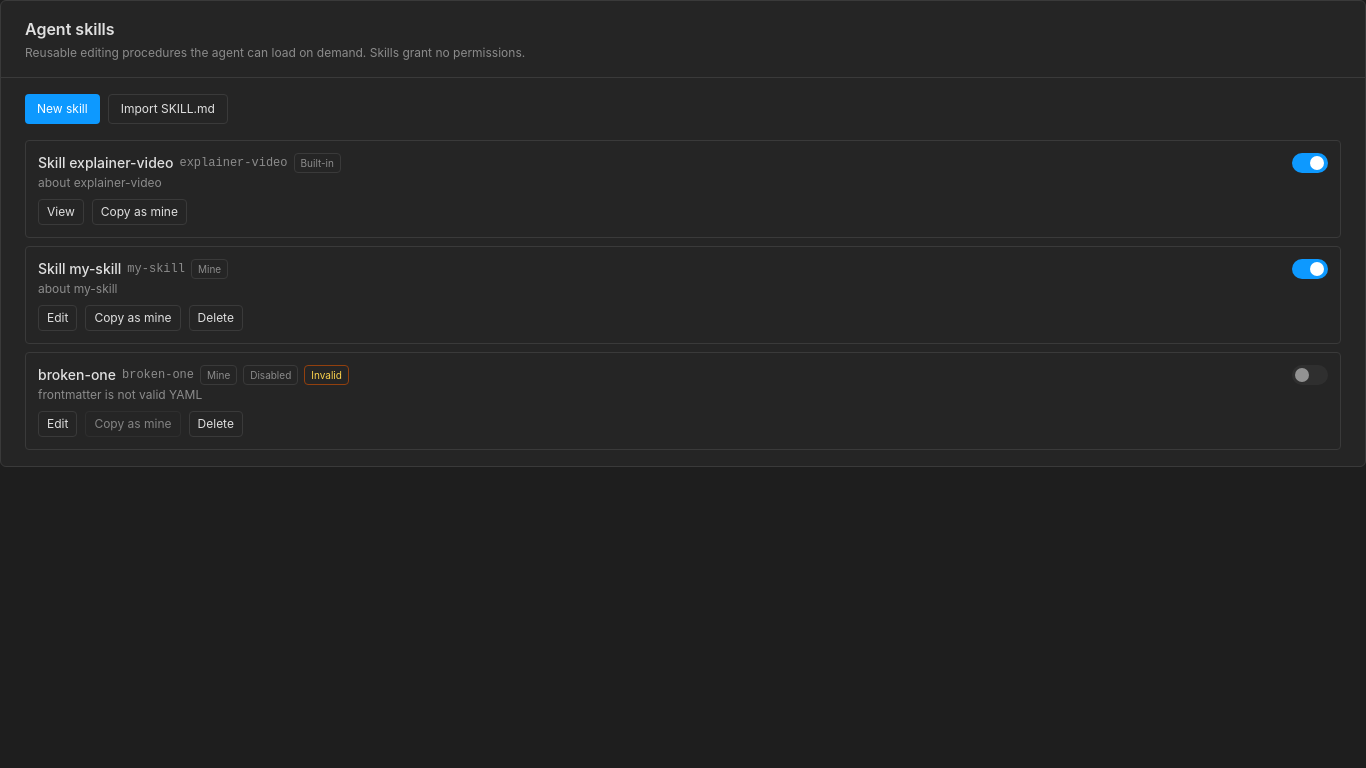
Scenario: import / create (AC-B2, spec 风险 R3) › keeps Save disabled and explains why while the markdown is invalid
The image size is (1366, 768).
Click the button "New skill". click: (62, 109)
box: [25,94,100,124]
(page scrolled)
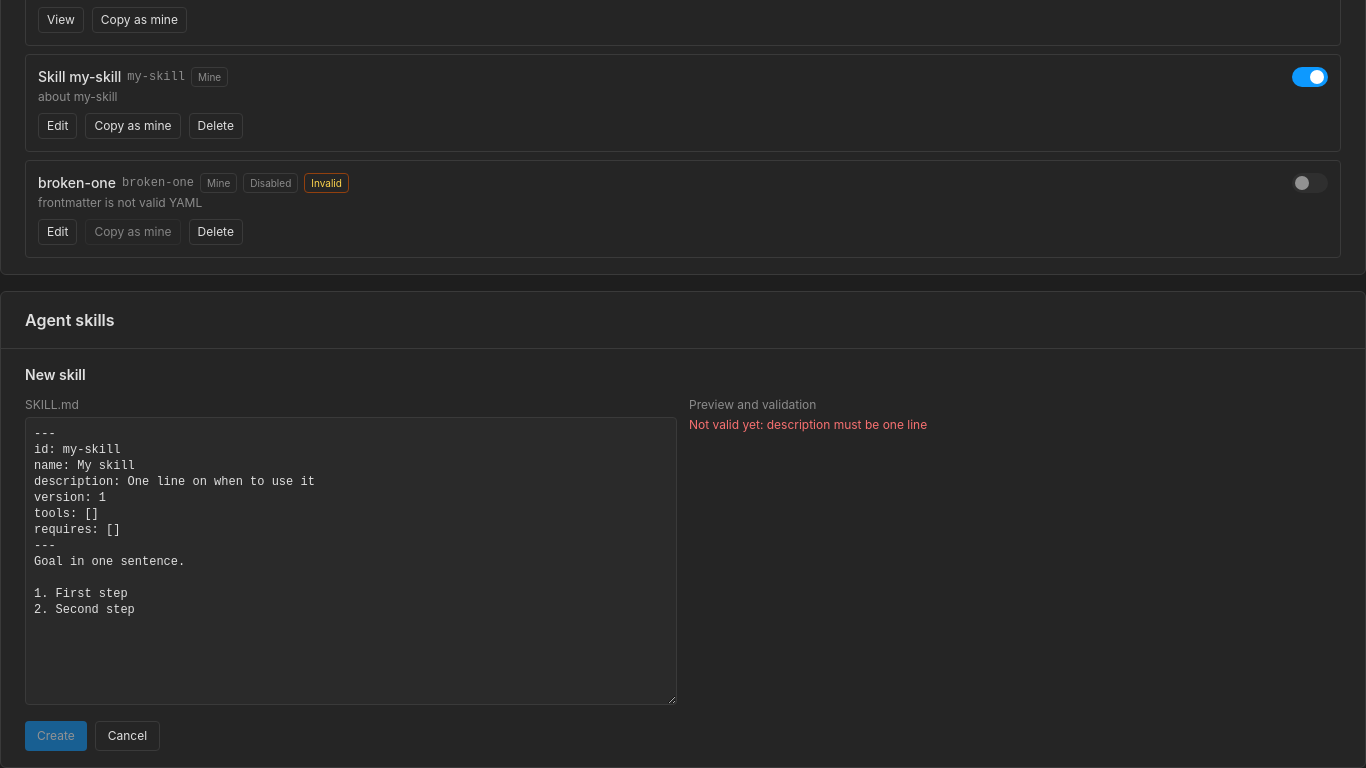
Result: the message with test id "skill-preview-invalid" shows "description must be one line" at [689,417,927,432]
Result: the button "Create" is disabled at [25,721,87,751]
